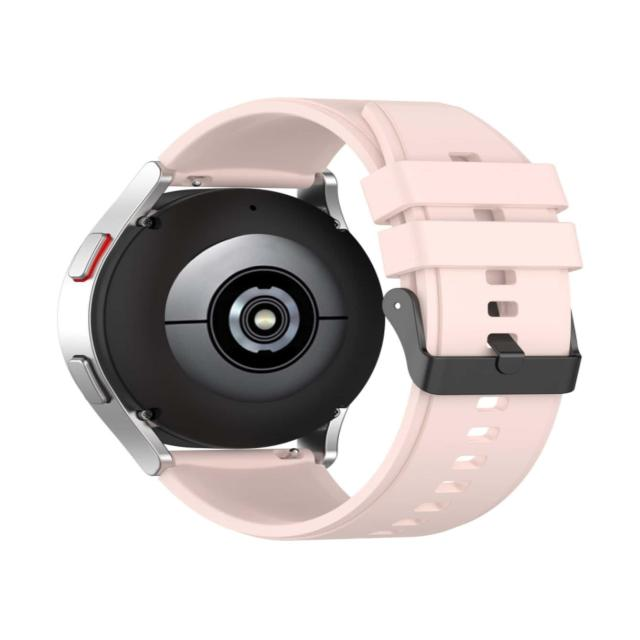bracelet: (4, 19, 628, 574)
